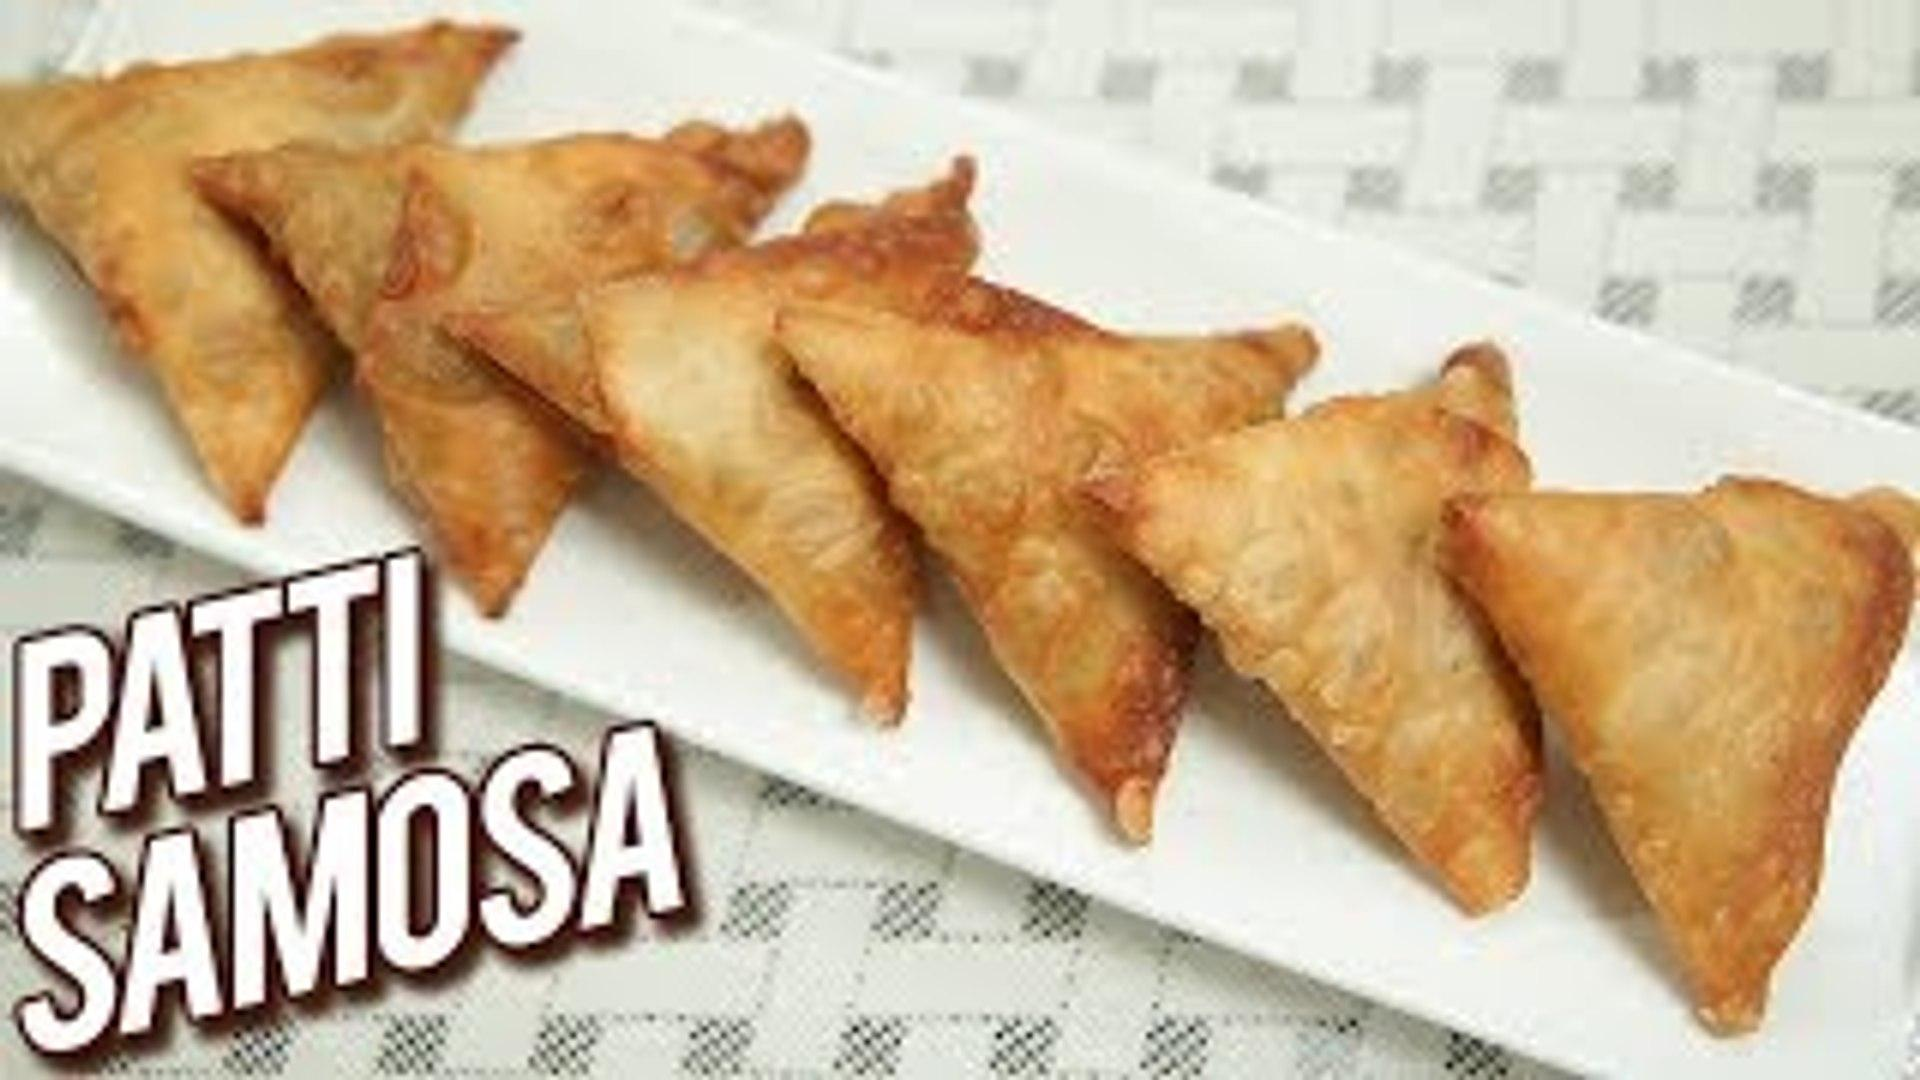samosa: (195, 116, 810, 615), (777, 277, 1316, 840), (450, 157, 975, 724), (1444, 480, 1912, 1035), (0, 22, 514, 521), (1092, 342, 1542, 911), (582, 274, 919, 724)
